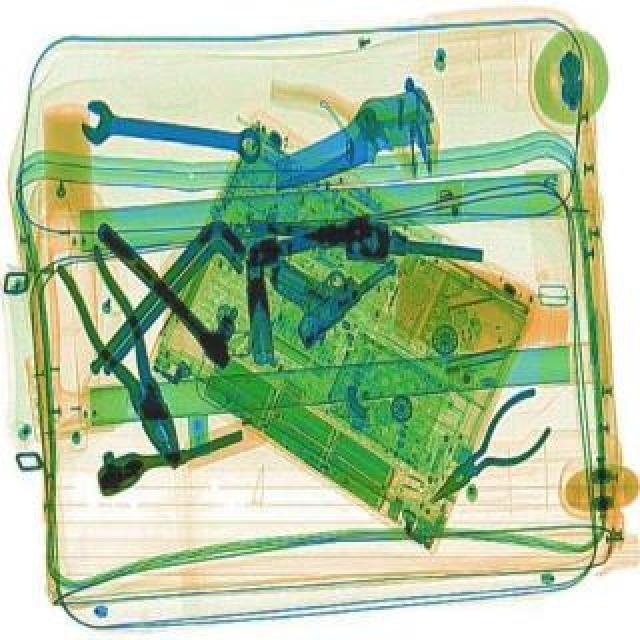gun: (244, 206, 408, 352)
scissors: (78, 96, 266, 168)
wrench: (54, 238, 206, 474), (414, 380, 572, 522)
